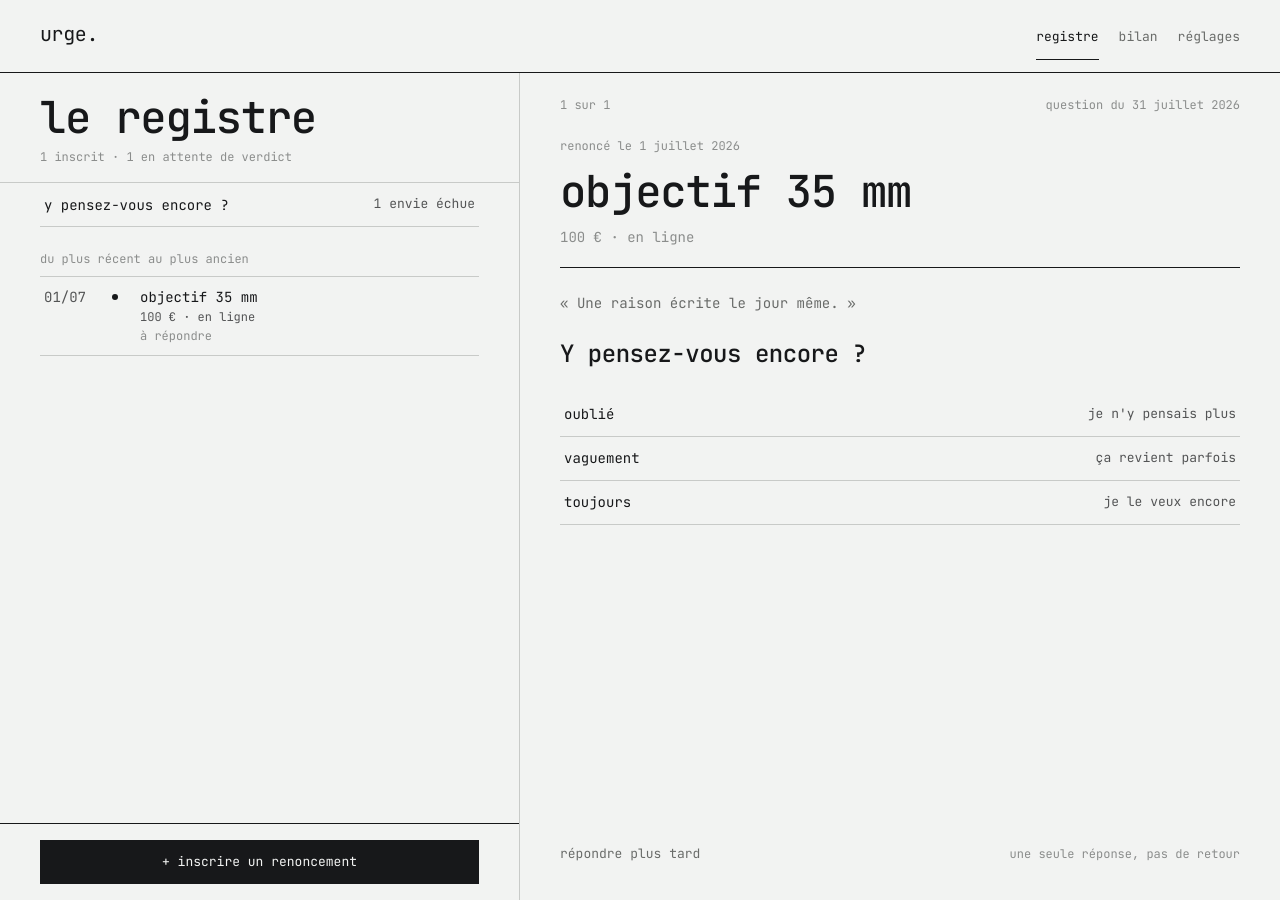
Test case: les réglages › effacent tout, derrière une confirmation
What coordinates should you click on to do the following:
click the button "réglages"
I would click on:
 (1209, 38)
Its box is [1178,16,1240,60].
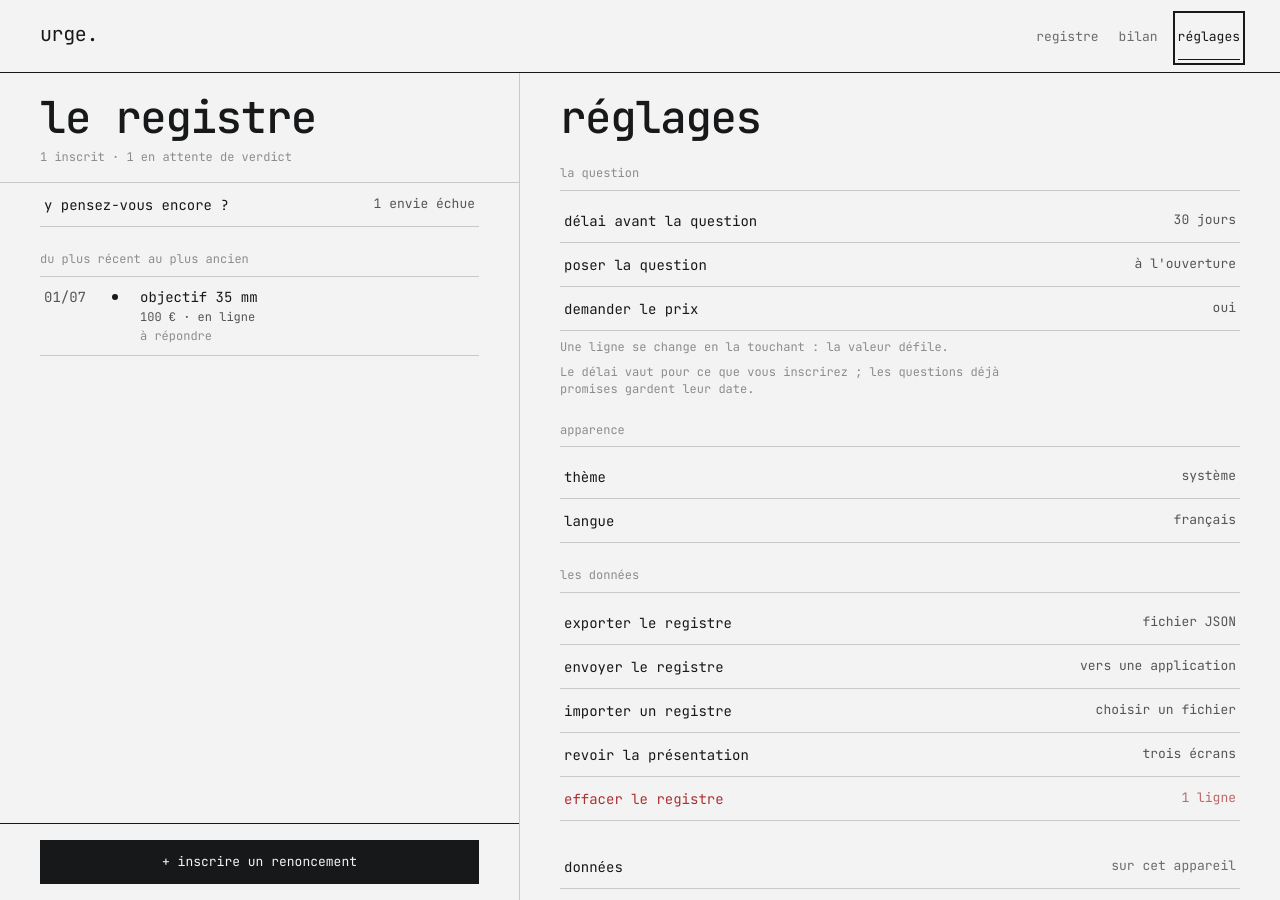
What coordinates should you click on to do the following:
click the button "effacer le registre 1 ligne"
I would click on:
 (644, 799)
Its box is [560,777,1240,821].
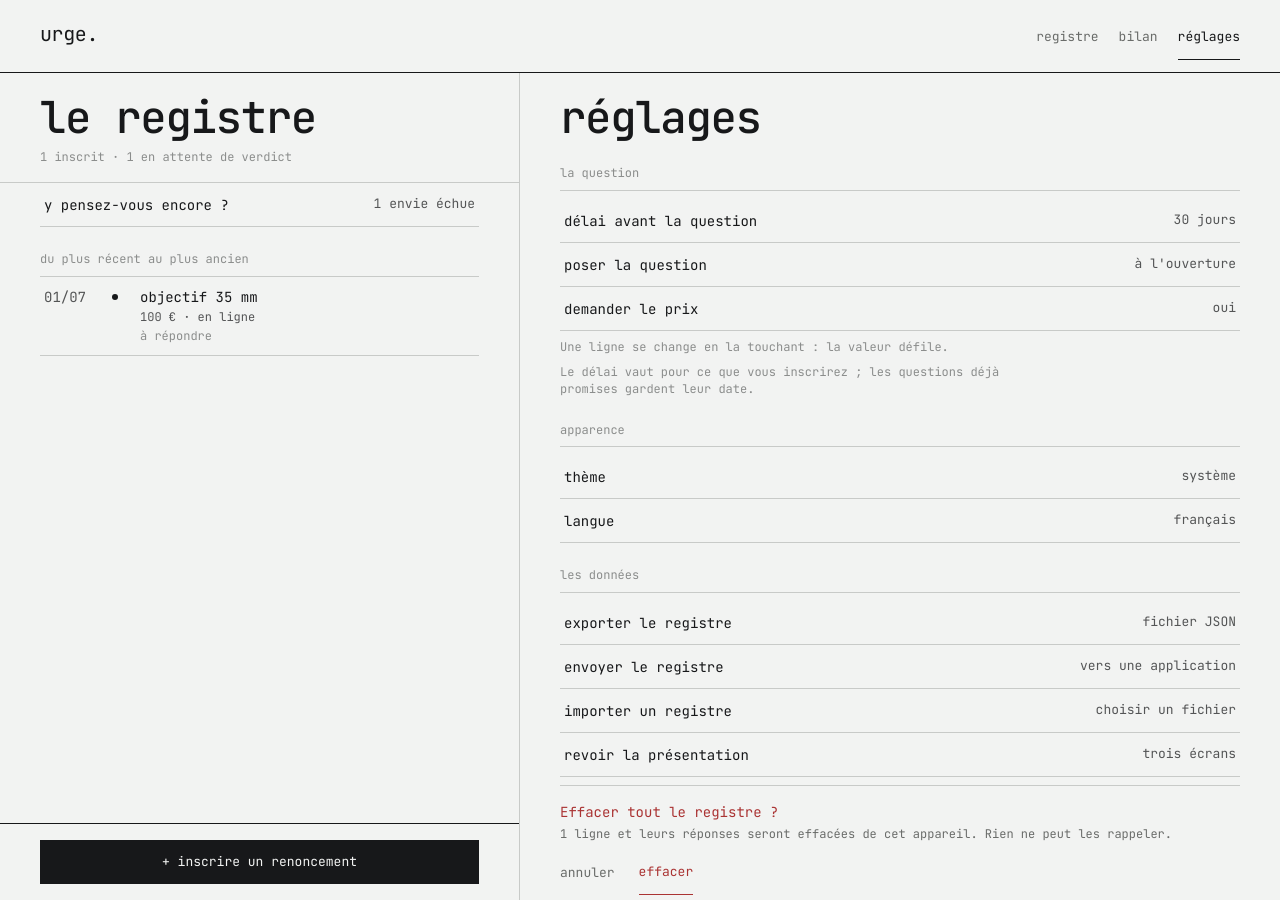
Expected: the text "Effacer tout le registre ?" is shown, [560,803,778,821]
What coordinates should you click on to do the following:
click the button "effacer"
I would click on:
 (666, 873)
Its box is [639,851,693,895].
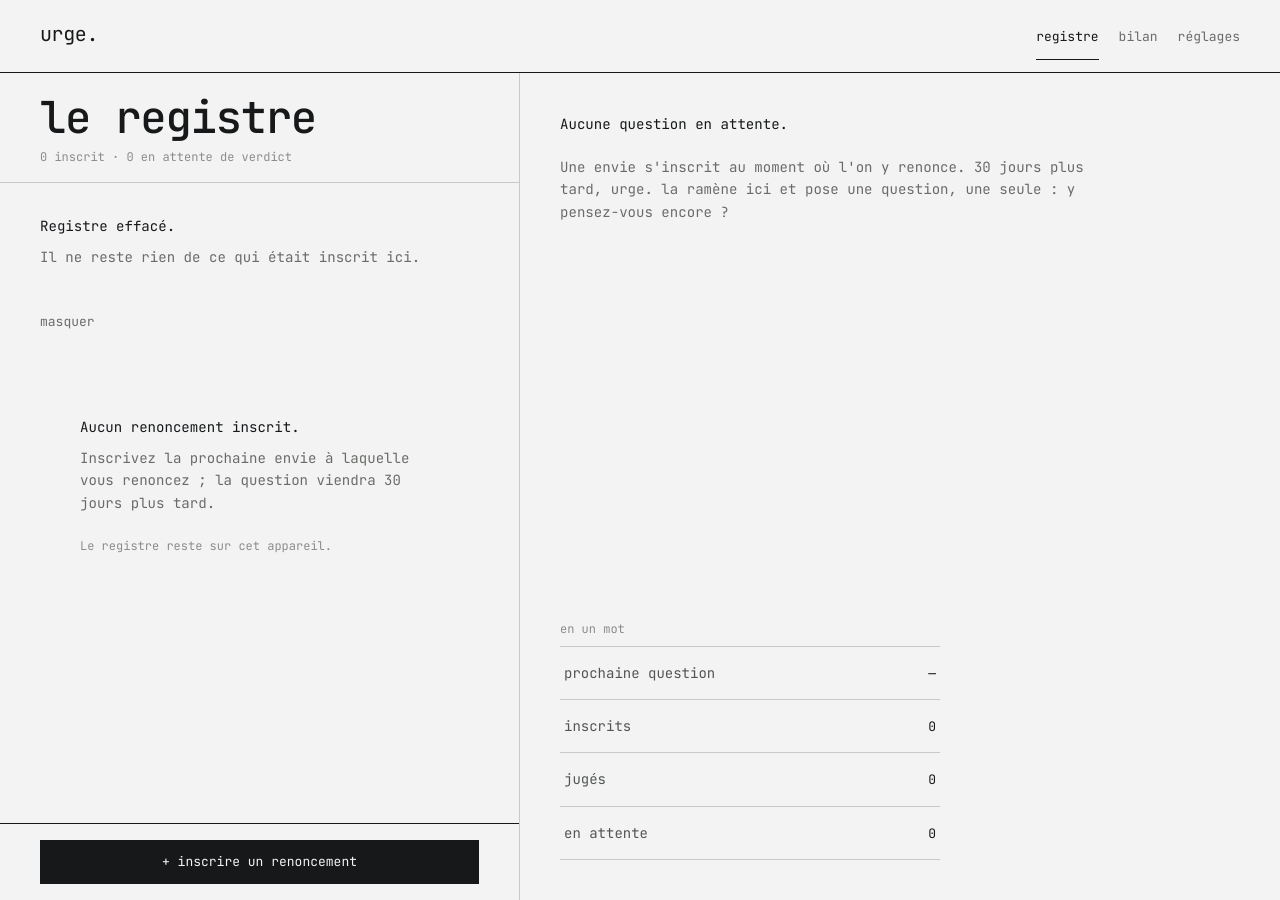
Expected: the text "Registre effacé." is shown, [40,217,175,235]
Expected: the text "Aucun renoncement inscrit." is shown, [80,418,300,436]
